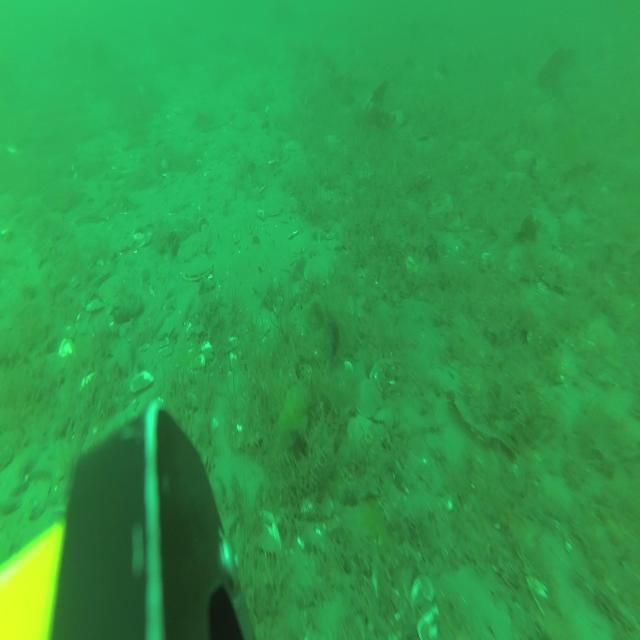scallop: (304, 248, 336, 287), (176, 228, 208, 262), (357, 378, 382, 418), (348, 412, 371, 447), (184, 254, 214, 280), (288, 231, 312, 255), (264, 196, 284, 217)
